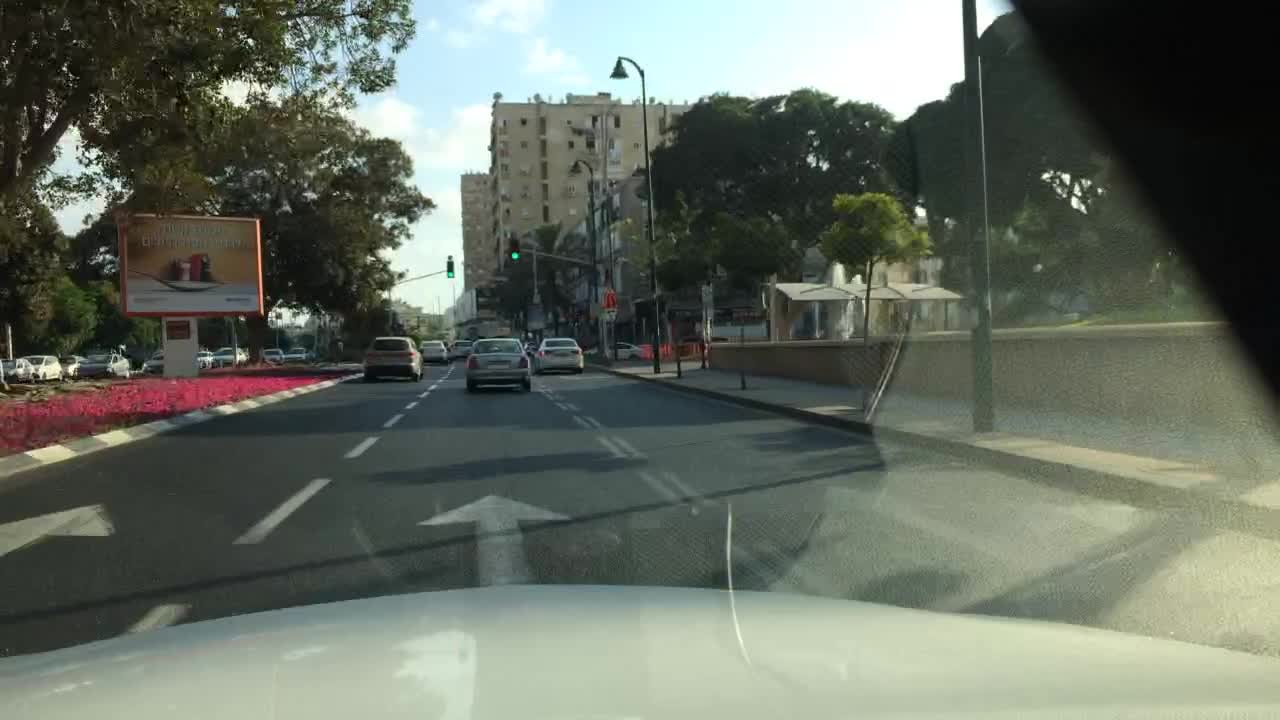car: (462, 334, 530, 395), (361, 334, 422, 386), (533, 334, 584, 374), (74, 354, 131, 381), (587, 341, 641, 361), (0, 356, 37, 385), (25, 354, 60, 381), (417, 337, 447, 363), (445, 336, 471, 361), (212, 346, 244, 364), (195, 349, 216, 373), (57, 356, 77, 381), (285, 344, 309, 364), (143, 351, 163, 374), (263, 346, 283, 366), (523, 339, 536, 354)
traffic light: (508, 236, 518, 261), (445, 260, 455, 280)
traffic sign: (602, 292, 617, 322)
